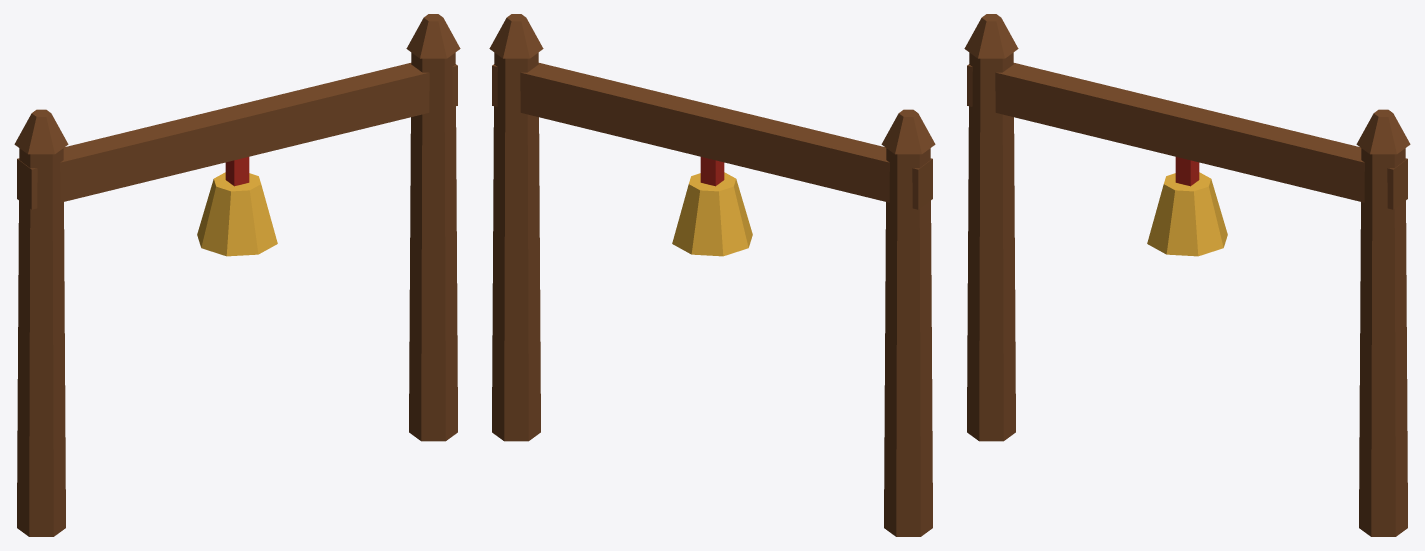
The model's file is DogGate_Arch.fbx.
3 renders of one model, left to right at view 1: azimuth 30°, elevation 25°; view 2: azimuth 150°, elevation 25°; view 3: azimuth 330°, elevation 25°, orthographic.
Parts seen in each view (by area): view 1: DogGate_Arch; view 2: DogGate_Arch; view 3: DogGate_Arch.
Part boxes in pixels (left/top/right/bottom): DogGate_Arch: left=14, top=14, right=460, bottom=536; DogGate_Arch: left=489, top=14, right=935, bottom=536; DogGate_Arch: left=964, top=14, right=1410, bottom=536.
Bounding box in the file's own units: 1.02 × 0.93 × 0.17.
Materials: 1 (1 with a texture image).
